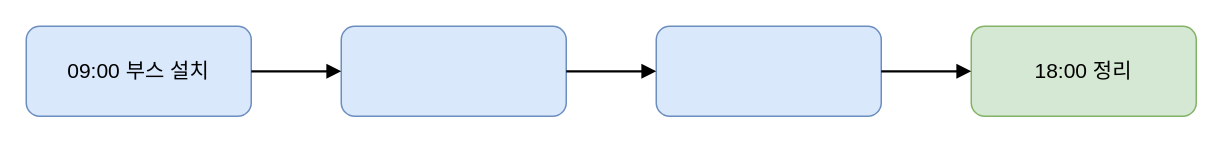
Some shapes in this 1223 by 143 pixel diagram are drawn without their labels. Each missing label, with the centre of its shape:
"11:00 개막" goes at [453,70].
"14:00 작가와의 대화" goes at [768,70].
